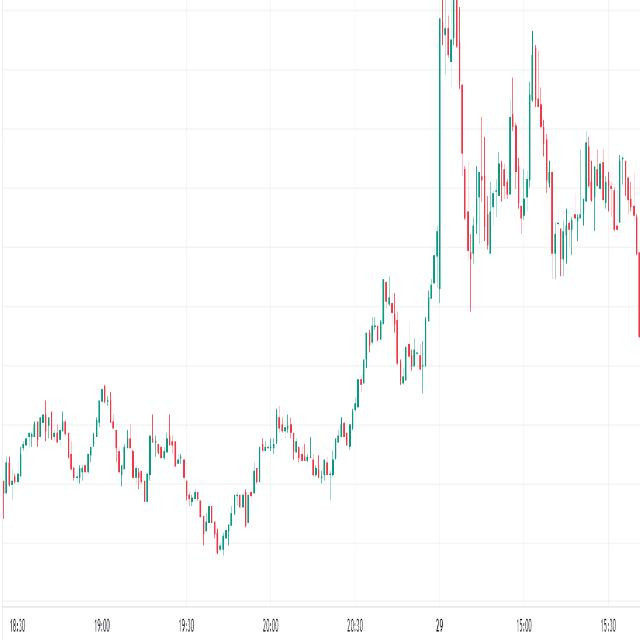Rounding-Top: (1, 374, 222, 556)
